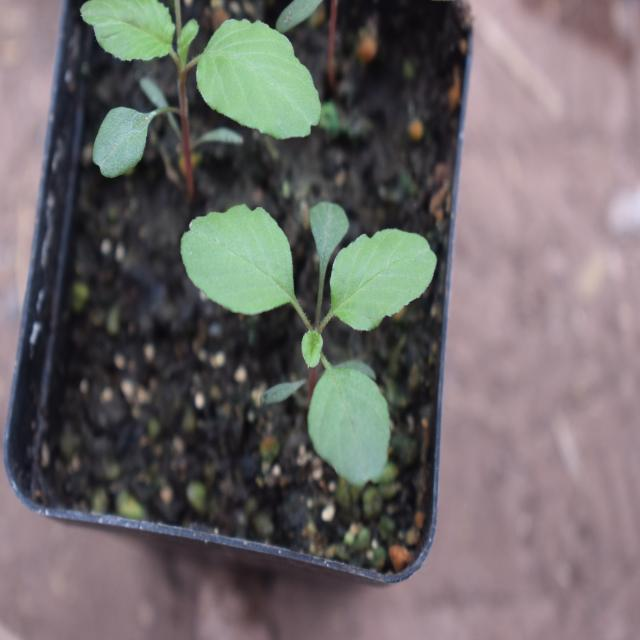pigweed: (172, 175, 438, 487)
